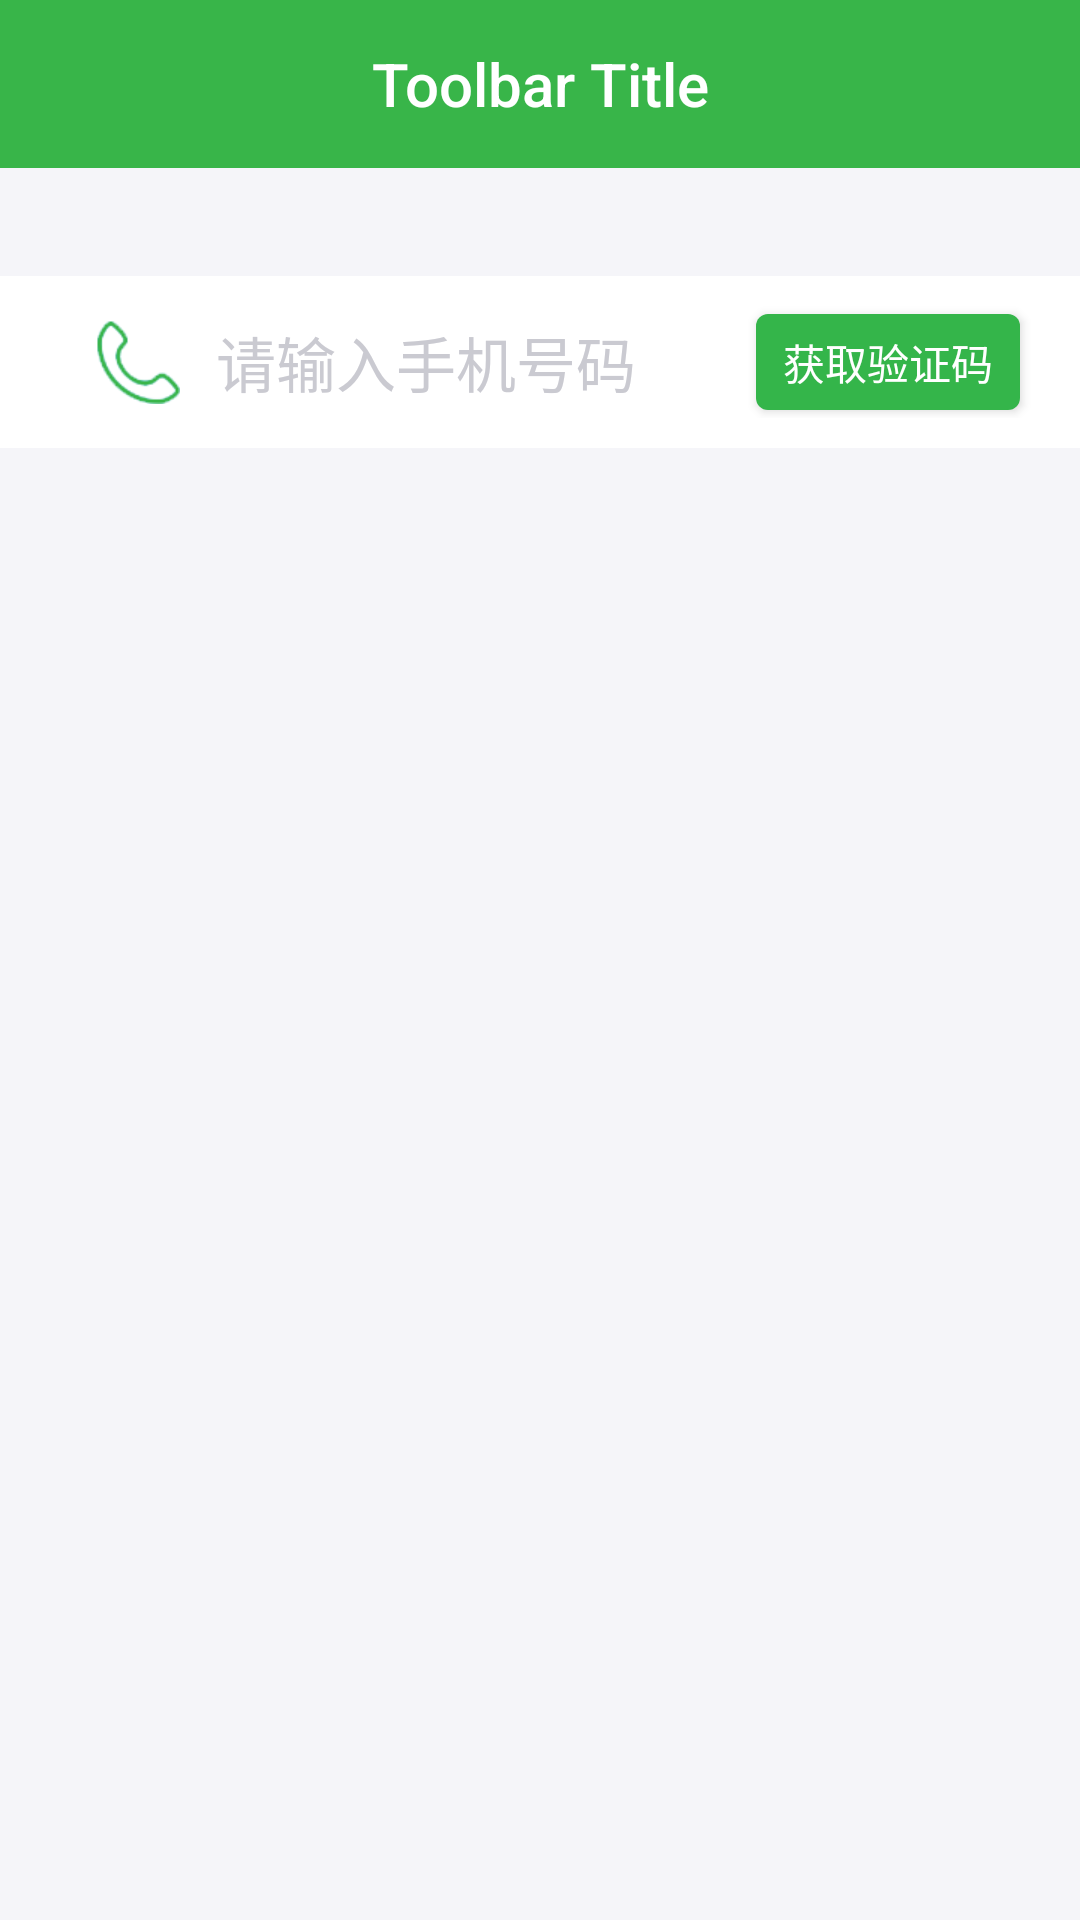

Icon bounding boxes for this 1080px×1920px phone screenshot, format Rect(x1, y1, x2, y2):
login phone: Rect(97, 321, 180, 404)
